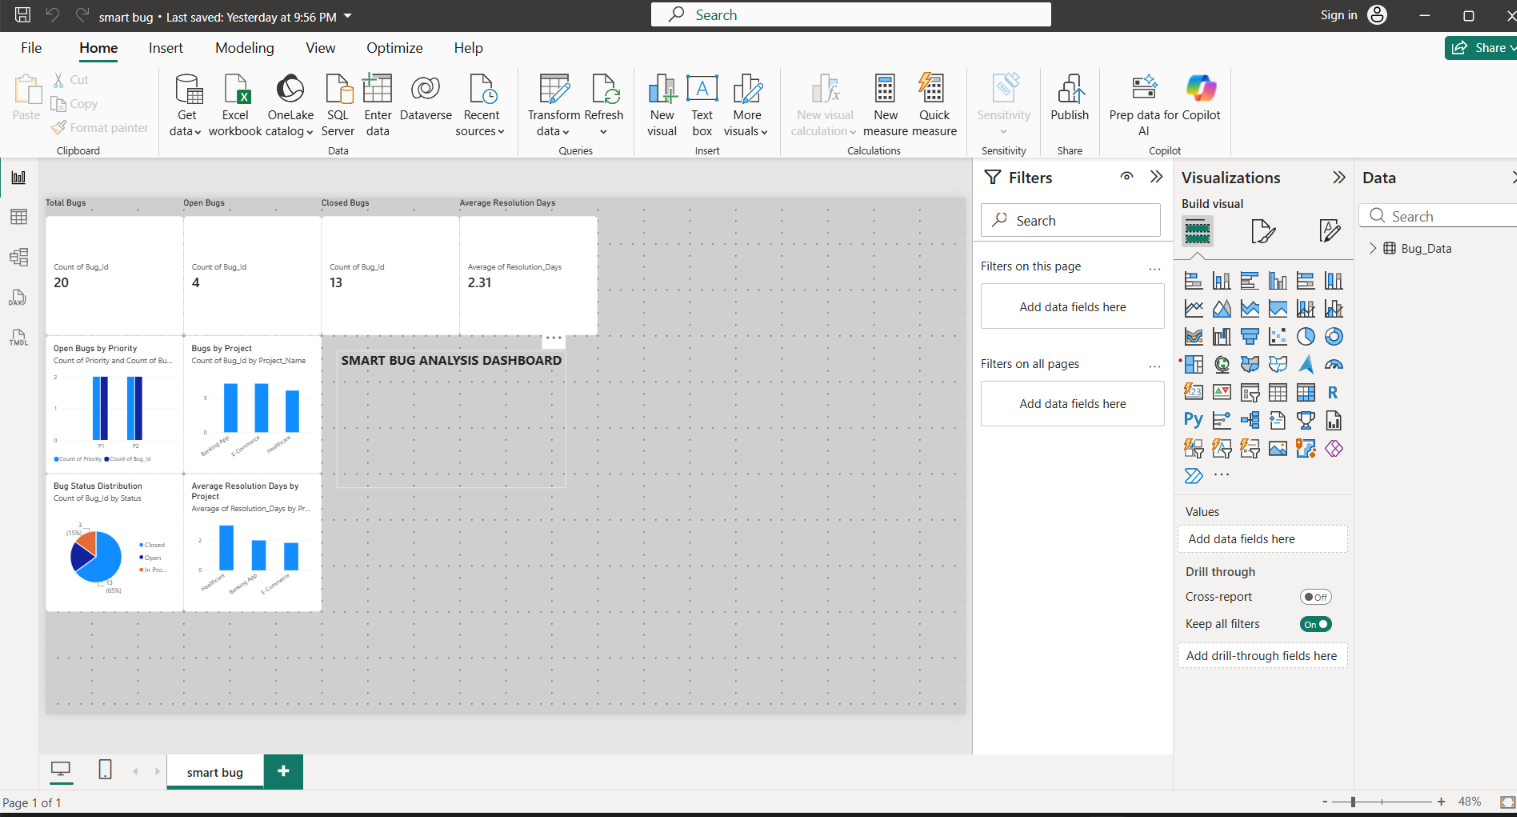

The dashboard page shown, as its layout file describes it:
{"tool":"powerbi","page":{"name":"smart bug","canvas":[1920,1080],"ordinal":0},"visuals":[{"type":"clusteredColumnChart","title":"Open Bugs by Priority","fields":{"Category":["Bug_Data.Priority"],"Y":["CountNonNull(Bug_Data.Priority)","CountNonNull(Bug_Data.Bug_Id)"]},"box":[0,288,288,288],"z":0},{"type":"clusteredColumnChart","title":"Bugs by Project","fields":{"Category":["Bug_Data.Project_Name"],"Y":["CountNonNull(Bug_Data.Bug_Id)"]},"box":[288,288,288,288],"z":1000},{"type":"pieChart","title":"Bug Status Distribution","fields":{"Category":["Bug_Data.Status"],"Y":["CountNonNull(Bug_Data.Bug_Id)"]},"box":[0,576,288,288],"z":2000},{"type":"clusteredColumnChart","title":"Average Resolution Days by Project","fields":{"Category":["Bug_Data.Project_Name"],"Y":["Avg(Bug_Data.Resolution_Days)"]},"box":[288,576,288,288],"z":3000},{"type":"cardVisual","title":"Total Bugs","fields":{"Data":["CountNonNull(Bug_Data.Bug_Id)"]},"box":[0,0,288,288],"z":4000},{"type":"cardVisual","title":"Open Bugs","fields":{"Data":["CountNonNull(Bug_Data.Bug_Id)"]},"box":[288,0,288,288],"z":5000},{"type":"cardVisual","title":"Closed Bugs","fields":{"Data":["CountNonNull(Bug_Data.Bug_Id)"]},"box":[576,0,288,288],"z":5001},{"type":"cardVisual","title":"Average Resolution Days","fields":{"Data":["Avg(Bug_Data.Resolution_Days)"]},"box":[864,0,288,288],"z":5002},{"type":"textbox","box":[608,320,480,288],"z":5003}]}

Visuals, with their boxes on the page's 1920x1080 design canvas (x1, y1, x2, y2). These are canvas units, not pixel positions in the 1517x817 screenshot, which may show the page scaled, cropped or inside an application window:
"Open Bugs by Priority" clusteredColumnChart: 0 288 288 576
"Bugs by Project" clusteredColumnChart: 288 288 576 576
"Bug Status Distribution" pieChart: 0 576 288 864
"Average Resolution Days by Project" clusteredColumnChart: 288 576 576 864
"Total Bugs" cardVisual: 0 0 288 288
"Open Bugs" cardVisual: 288 0 576 288
"Closed Bugs" cardVisual: 576 0 864 288
"Average Resolution Days" cardVisual: 864 0 1152 288
textbox: 608 320 1088 608
